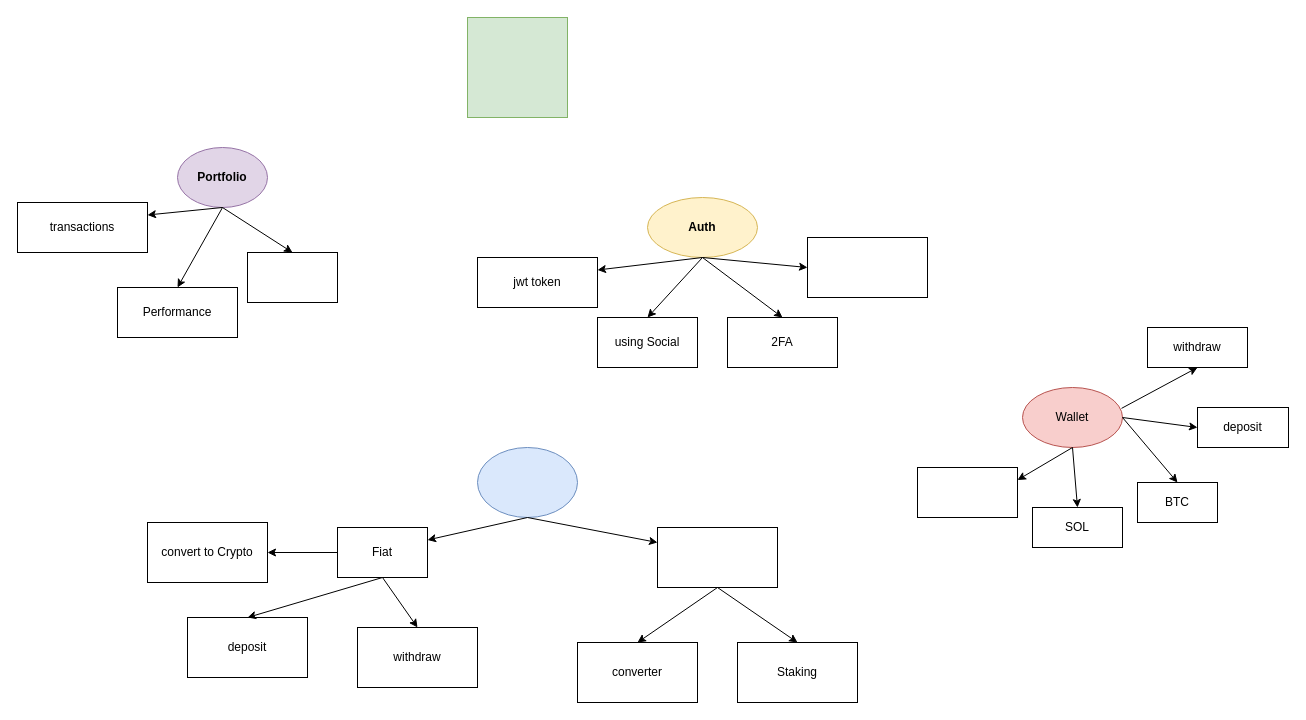
This 1306x720 diagram has some shape labels left out. Each missing label, with the centre of its shape:
"BitCrypto" belongs at pixel 517 67.
"Crypto" belongs at pixel 717 557.
"EVM" belongs at pixel 967 492.
"Finance" belongs at pixel 527 482.
"list of coins" belongs at pixel 292 277.
"Profile" belongs at pixel 867 267.
